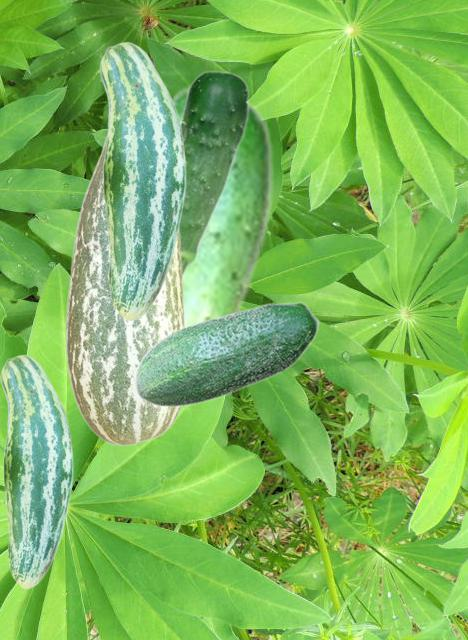cucumber: (65, 133, 186, 445), (170, 83, 272, 325), (99, 41, 185, 320), (134, 301, 319, 406), (0, 354, 72, 588), (180, 70, 249, 276)
